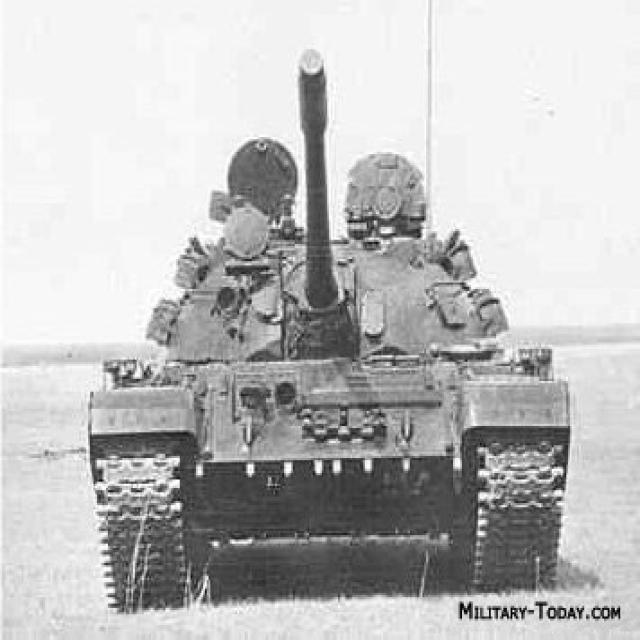Tank: (93, 44, 576, 618)
